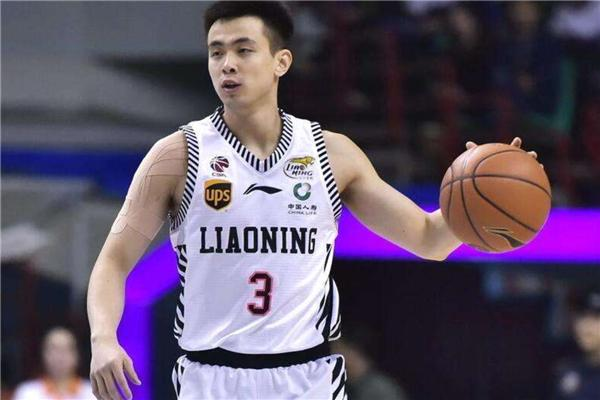ball: (438, 143, 553, 254)
